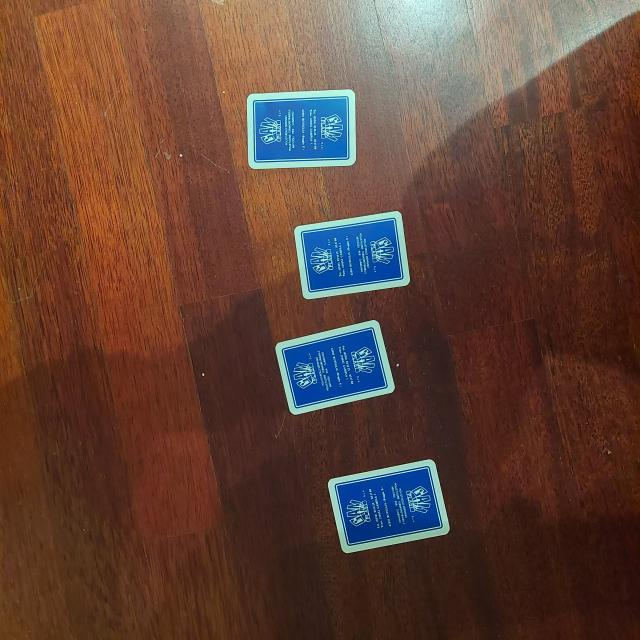card: (271, 318, 397, 416), (326, 458, 450, 554), (292, 210, 412, 300), (244, 89, 358, 171)
